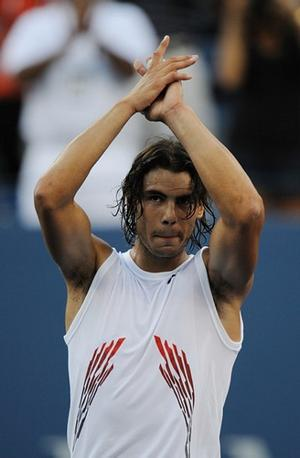person: (31, 32, 265, 458)
